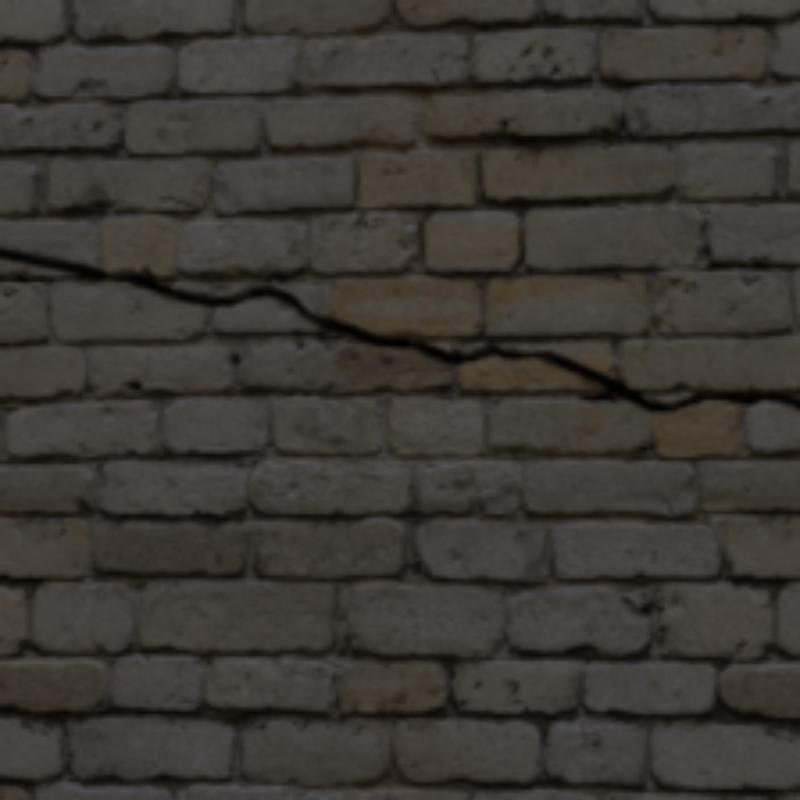pothole: (0, 246, 521, 361), (521, 350, 796, 407)
